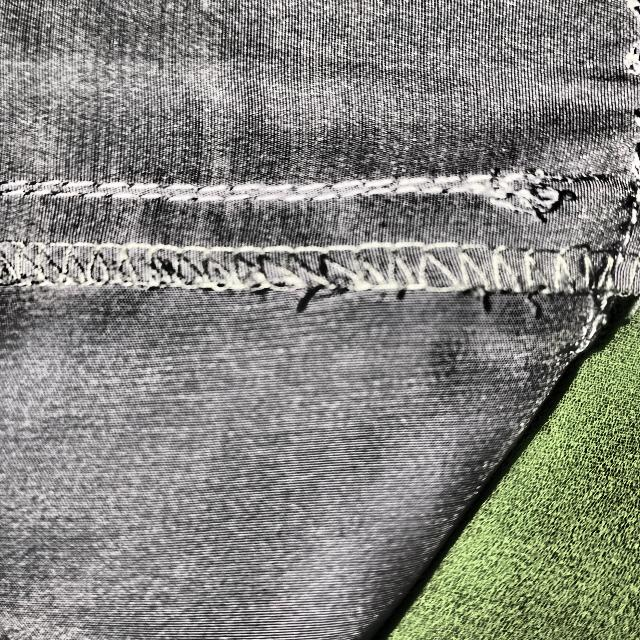Stitch: (456, 138, 640, 240)
